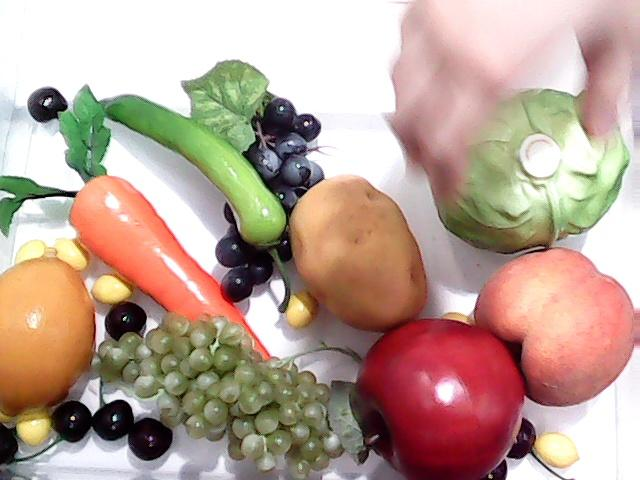apple: (350, 318, 524, 478)
cabbage: (425, 84, 629, 255)
carrot: (0, 82, 272, 358)
grape: (90, 303, 346, 477), (208, 83, 328, 303)
lemon: (0, 250, 96, 425)
peach: (472, 249, 640, 407)
pepper: (80, 81, 296, 249)
potato: (286, 174, 430, 334)
